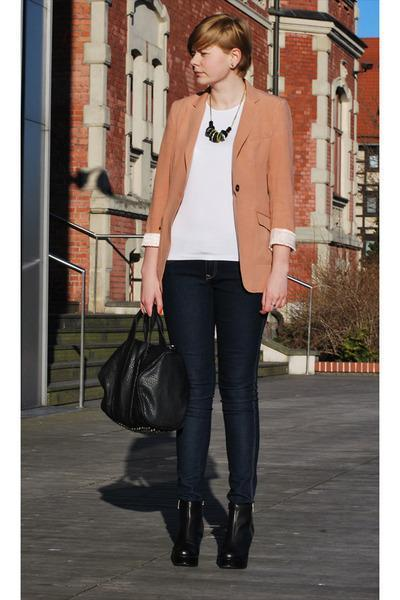bag: (97, 335, 195, 443)
jacket: (132, 84, 295, 296)
pants: (156, 260, 277, 504)
shirt: (167, 100, 243, 260)
shoe: (162, 503, 251, 568)
